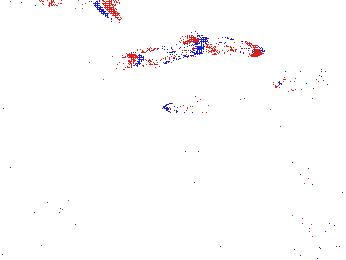X-ray fish: (135, 216, 163, 254)
glassfish: (176, 140, 259, 184)
red belly glassfish: (276, 69, 325, 90)
redtail glassfish: (19, 1, 121, 23), (127, 42, 208, 66), (190, 30, 262, 57), (162, 92, 219, 114)
